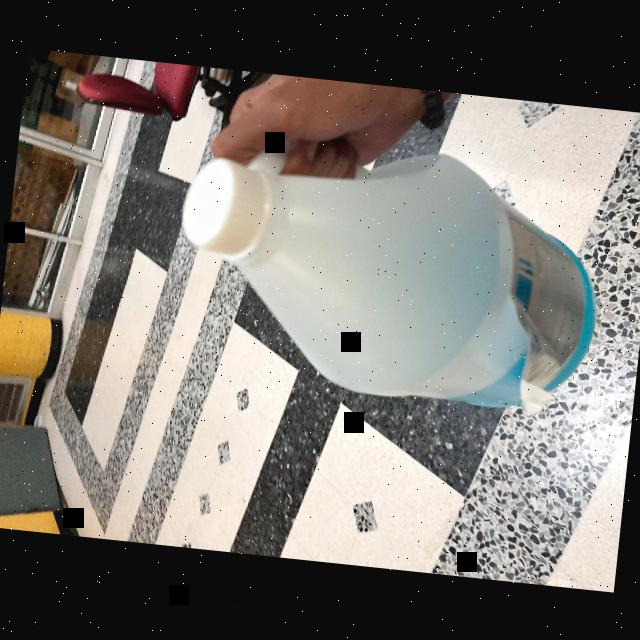chemical_plastic_gallon: (160, 102, 612, 445)
